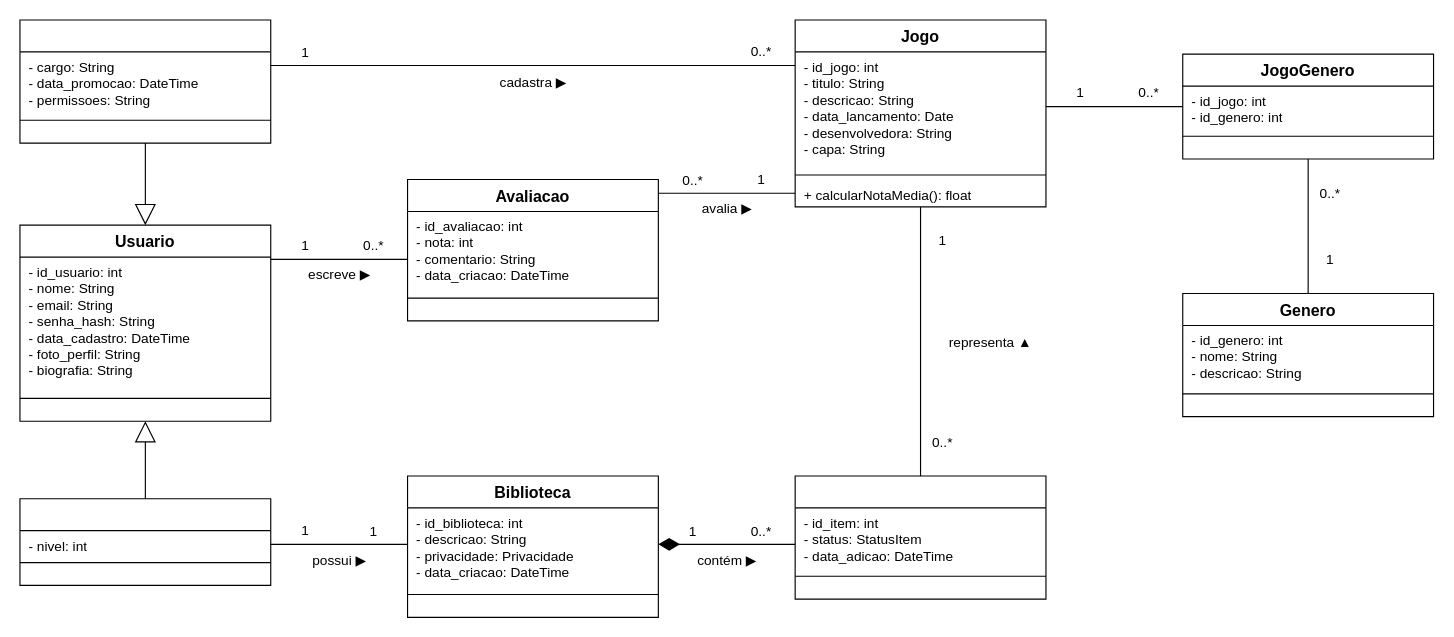
Some shapes in this 1454 by 637 pixel diagram are drawn without their labels. Each missing label, with the box of its shape:
Administrador: (19, 19, 271, 143)
ItemBiblioteca: (794, 475, 1046, 599)
Jogador: (19, 498, 271, 585)
